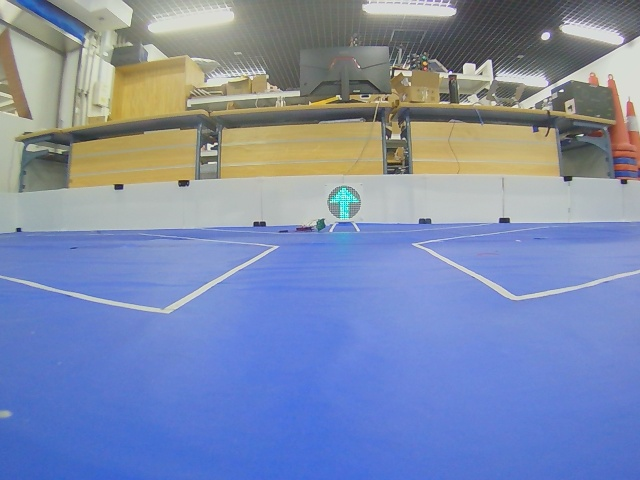straight_green: (327, 186, 361, 220)
